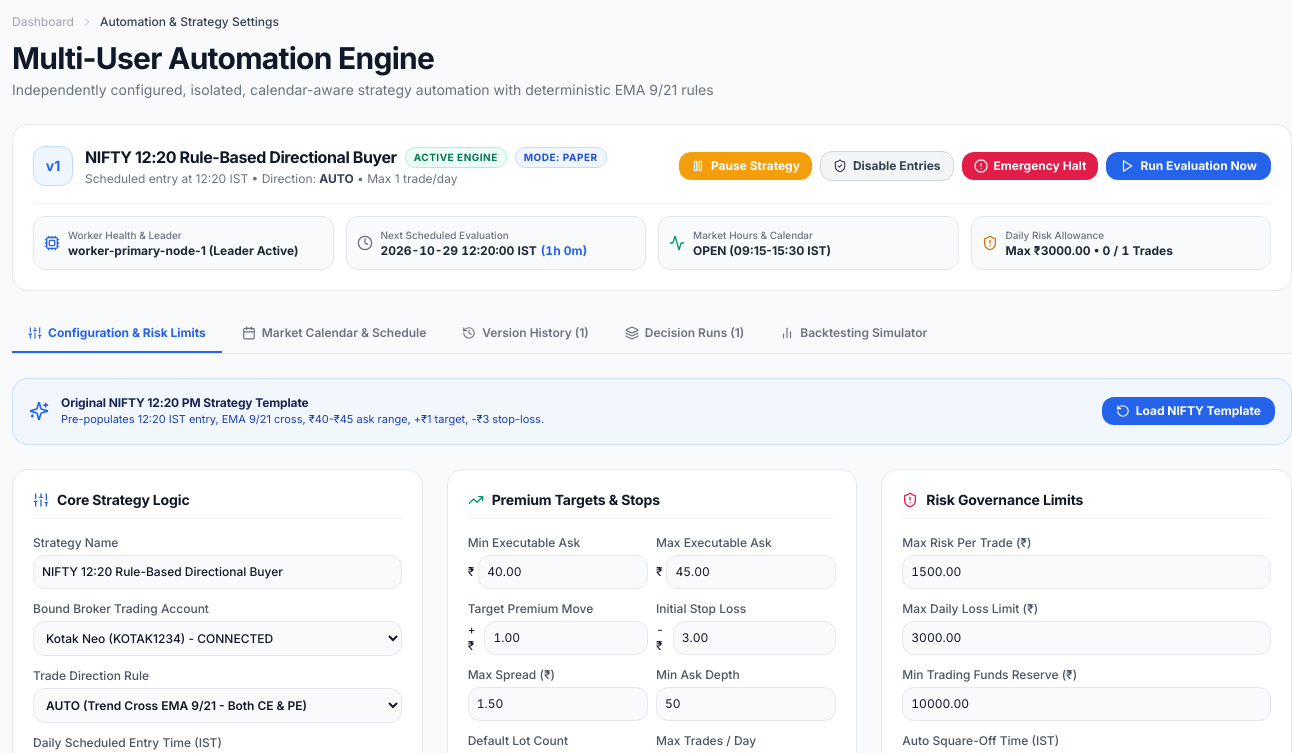
Test case: CODEX PHASE 7 — Multi-User Automation Engine Test Suite › TASK 4: Runs on-demand strategy evaluation and displays decision result
Click the button "Run Evaluation Now": (1189, 166) [1106,152,1271,180]
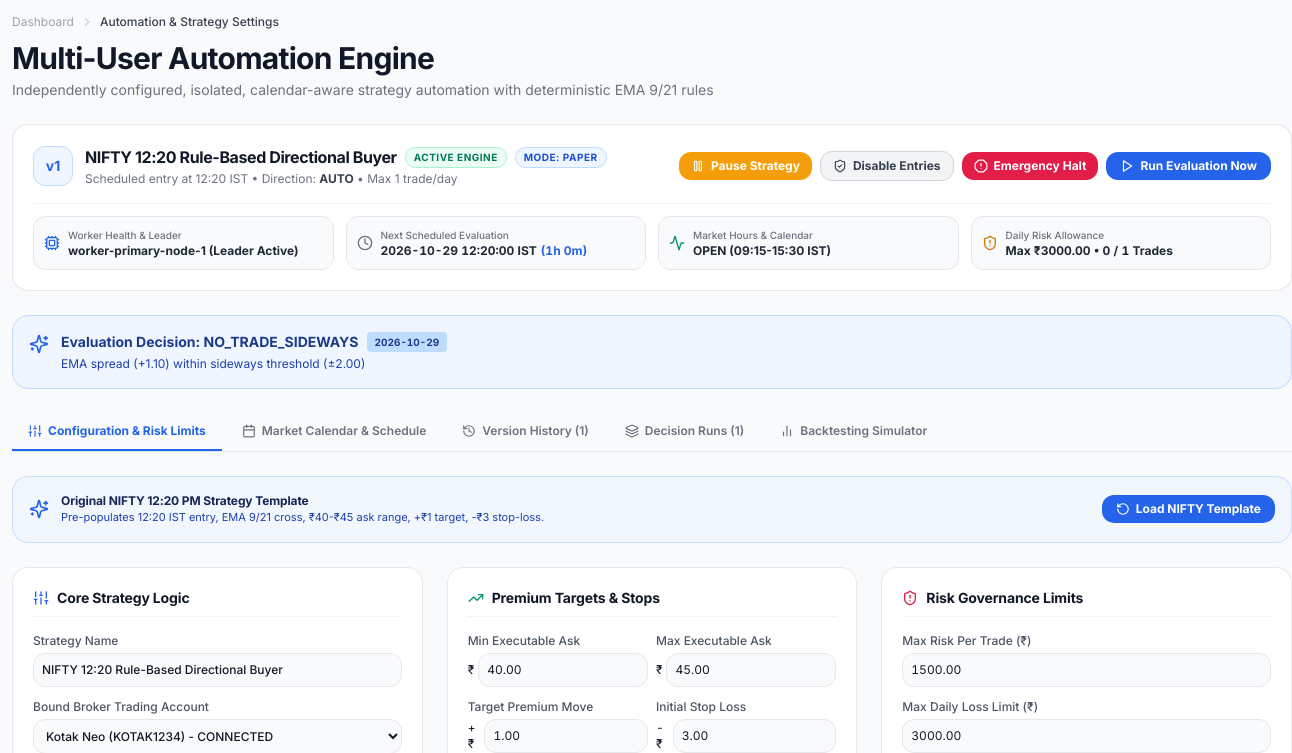
Now the text "Evaluation Decision: NO_TRADE_SIDEWAYS" is shown, box [61,332,358,352]
Now the text "EMA spread (+1.10) within sideways threshold (±2.00)" is shown, box [61,356,365,371]
